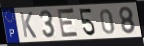0: (99, 8, 117, 35)
3: (39, 9, 58, 40)
5: (78, 8, 97, 37)
8: (118, 6, 137, 35)
E: (57, 7, 81, 40)
K: (19, 11, 38, 40)
